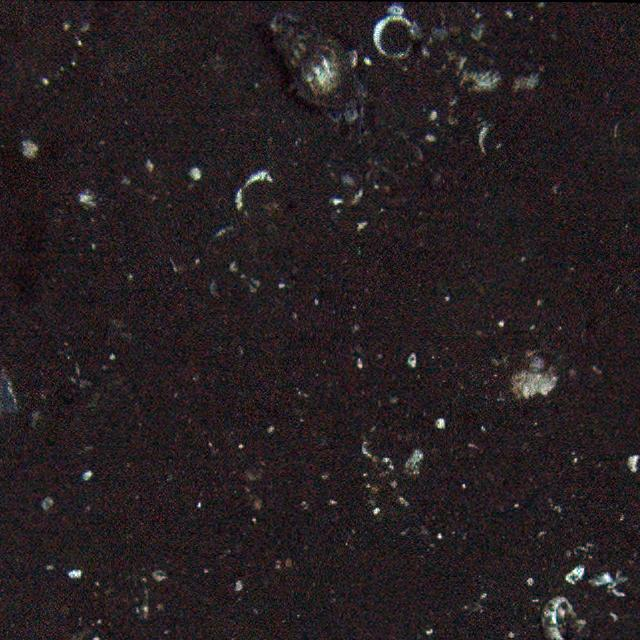whelk: (269, 12, 365, 108)
